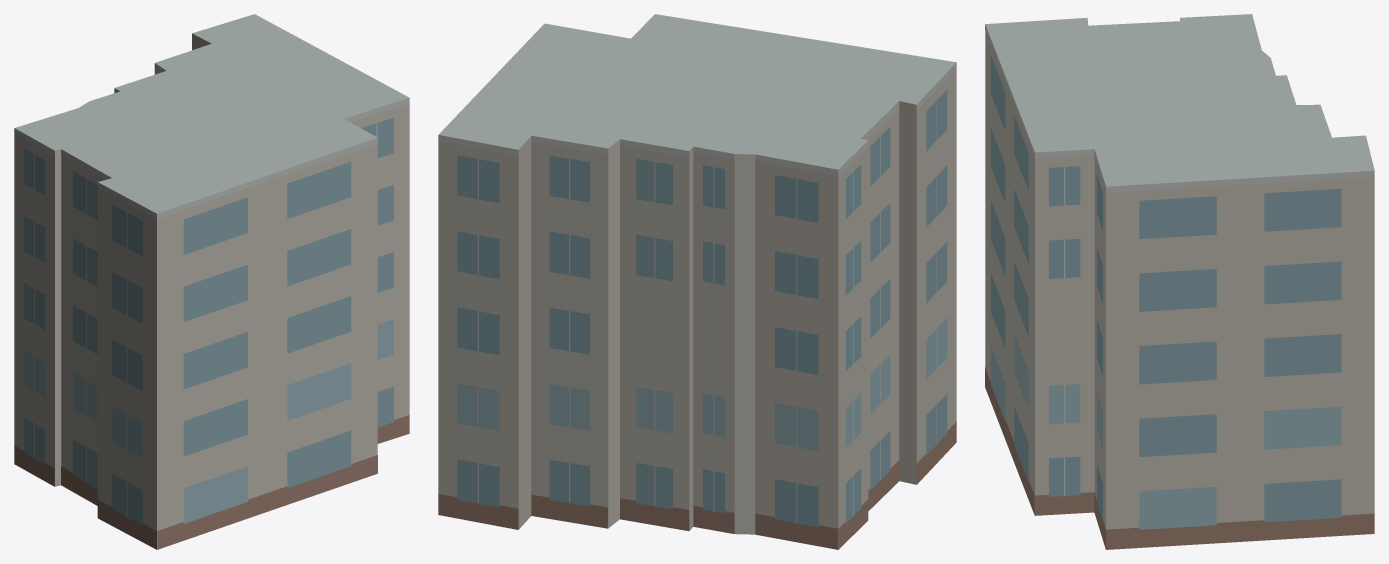
File: survey-upis-32981467.glb
3 views of the same model, side by side, from view 1: azimuth 30°, elevation 25°; view 2: azimuth 150°, elevation 25°; view 3: azimuth 270°, elevation 25° (orthographic). The views are drawn at different scales.
Visible parts, largest first — view 1: survey-upis-32981467.tmp; view 2: survey-upis-32981467.tmp; view 3: survey-upis-32981467.tmp.
Part boxes in pixels (x1,y1,x2,y2): survey-upis-32981467.tmp: [14, 14, 409, 549]; survey-upis-32981467.tmp: [438, 14, 956, 549]; survey-upis-32981467.tmp: [985, 14, 1374, 549].
Bounding box in the file's own units: 14.9 × 14.6 × 14.2.
